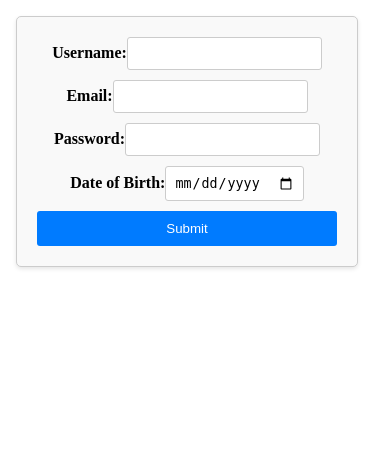
Scenario: Registration form validation › should display validation errors if submitted empty fields
This screenshot has width=375, height=449.
Click the button "Submit" at (187, 229), box [37, 211, 337, 246]
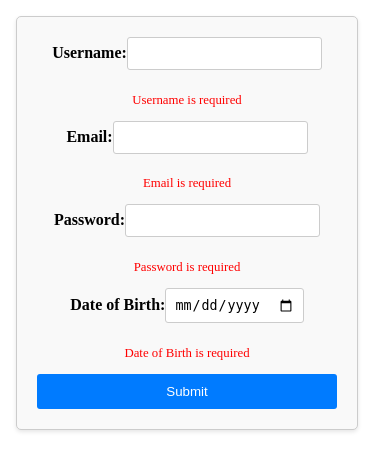
Expected: the text "Username is required" is shown, [132, 93, 242, 107]
Expected: the text with class "error" reads "Username is required", [132, 93, 241, 107]
Expected: the text with class "error" reads "Email is required", [143, 176, 231, 190]
